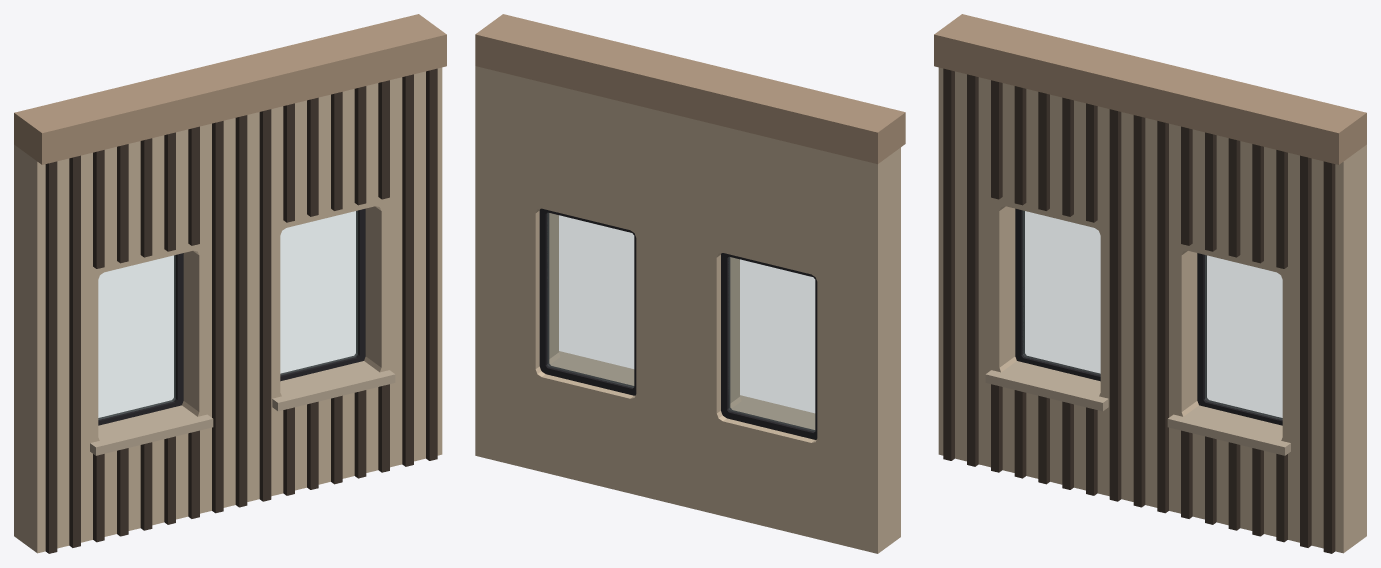
The model's file is city_res_window_pair_b.glb.
3 renders of one model, left to right at view 1: azimuth 30°, elevation 25°; view 2: azimuth 150°, elevation 25°; view 3: azimuth 330°, elevation 25°, orthographic.
Visible parts, largest first — view 1: CityResWindowPairB_Wall, CityResWindowPairB_Band, CityResWindowPairB_W0Glass, CityResWindowPairB_W1Glass, CityResWindowPairB_Batten9_0, CityResWindowPairB_Batten0_0, CityResWindowPairB_Batten8_0, CityResWindowPairB_Batten16_0, CityResWindowPairB_Batten1_0, CityResWindowPairB_Batten15_0, CityResWindowPairB_Batten7_0, CityResWindowPairB_W1Sill (+23 smaller); view 2: CityResWindowPairB_Wall, CityResWindowPairB_Band, CityResWindowPairB_W1Glass, CityResWindowPairB_W0Glass, CityResWindowPairB_W1Frame, CityResWindowPairB_W0Frame, CityResWindowPairB_W1Sill, CityResWindowPairB_W0Sill; view 3: CityResWindowPairB_Wall, CityResWindowPairB_Band, CityResWindowPairB_W1Glass, CityResWindowPairB_W0Glass, CityResWindowPairB_Batten7_0, CityResWindowPairB_Batten16_0, CityResWindowPairB_Batten8_0, CityResWindowPairB_Batten0_0, CityResWindowPairB_Batten1_0, CityResWindowPairB_Batten15_0, CityResWindowPairB_Batten9_0, CityResWindowPairB_W0Sill (+23 smaller).
Part boxes in pixels (bbox=[...]): CityResWindowPairB_Wall: bbox=[14, 67, 442, 553]; CityResWindowPairB_Band: bbox=[14, 14, 446, 164]; CityResWindowPairB_W0Glass: bbox=[98, 255, 175, 419]; CityResWindowPairB_W1Glass: bbox=[280, 211, 357, 374]; CityResWindowPairB_Batten9_0: bbox=[259, 109, 271, 501]; CityResWindowPairB_Batten0_0: bbox=[45, 161, 57, 553]; CityResWindowPairB_Batten8_0: bbox=[235, 115, 247, 507]; CityResWindowPairB_Batten16_0: bbox=[426, 68, 437, 460]; CityResWindowPairB_Batten1_0: bbox=[69, 155, 80, 547]; CityResWindowPairB_Batten15_0: bbox=[402, 74, 413, 466]; CityResWindowPairB_Batten7_0: bbox=[212, 121, 223, 513]; CityResWindowPairB_W1Sill: bbox=[272, 361, 395, 411]; CityResWindowPairB_Wall: bbox=[475, 66, 900, 553]; CityResWindowPairB_Band: bbox=[475, 14, 905, 164]; CityResWindowPairB_W1Glass: bbox=[547, 213, 633, 387]; CityResWindowPairB_W0Glass: bbox=[728, 257, 814, 431]; CityResWindowPairB_W1Frame: bbox=[539, 208, 636, 395]; CityResWindowPairB_W0Frame: bbox=[721, 253, 817, 439]; CityResWindowPairB_W1Sill: bbox=[550, 351, 634, 385]; CityResWindowPairB_W0Sill: bbox=[732, 395, 815, 429]; CityResWindowPairB_Wall: bbox=[938, 67, 1366, 553]; CityResWindowPairB_Band: bbox=[934, 14, 1366, 164]; CityResWindowPairB_W1Glass: bbox=[1205, 255, 1282, 419]; CityResWindowPairB_W0Glass: bbox=[1023, 211, 1100, 374]; CityResWindowPairB_Batten7_0: bbox=[1109, 109, 1121, 501]; CityResWindowPairB_Batten16_0: bbox=[1323, 161, 1335, 553]; CityResWindowPairB_Batten8_0: bbox=[1133, 115, 1145, 507]; CityResWindowPairB_Batten0_0: bbox=[943, 68, 954, 460]; CityResWindowPairB_Batten1_0: bbox=[967, 74, 978, 466]; CityResWindowPairB_Batten15_0: bbox=[1300, 155, 1311, 547]; CityResWindowPairB_Batten9_0: bbox=[1157, 121, 1168, 513]; CityResWindowPairB_W0Sill: bbox=[985, 361, 1108, 411].
Size of the model in its own units: 4 by 4 by 0.5.
